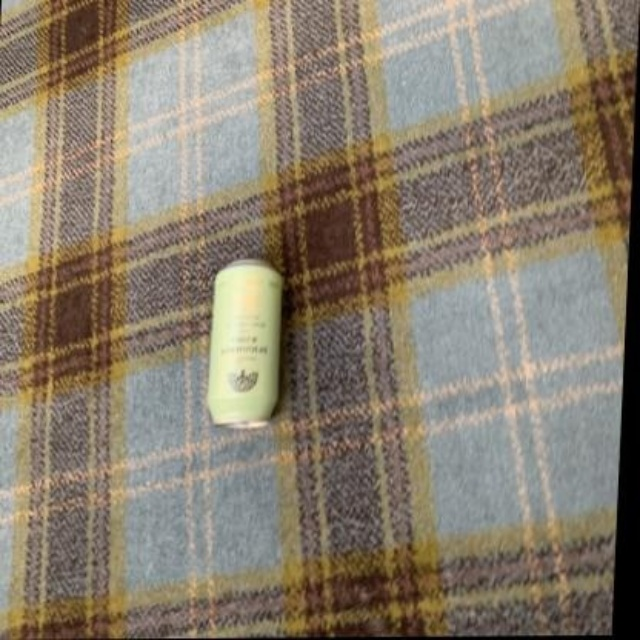trash: (208, 260, 282, 426)
